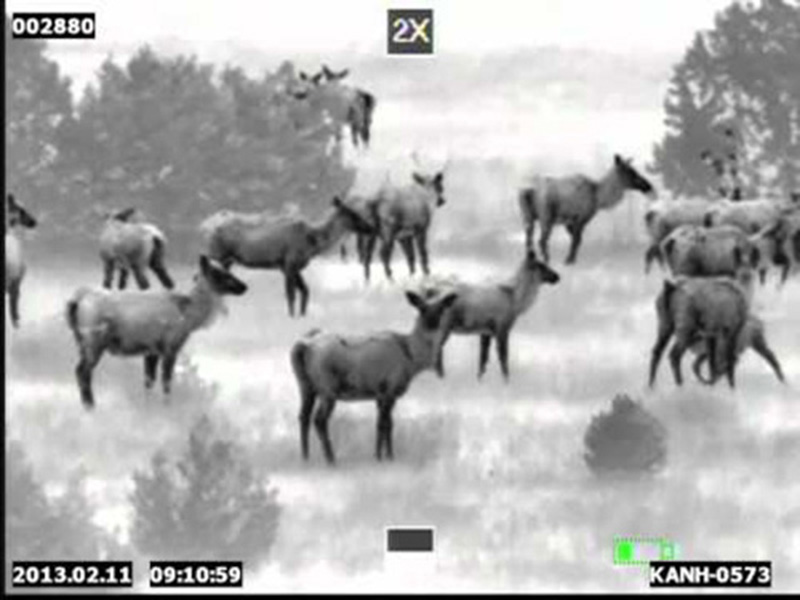cervo: (297, 289, 458, 463), (71, 259, 244, 406), (190, 197, 378, 319), (423, 247, 560, 369), (516, 152, 656, 268), (640, 275, 748, 384), (369, 165, 454, 281), (652, 224, 762, 279), (7, 186, 32, 338)
